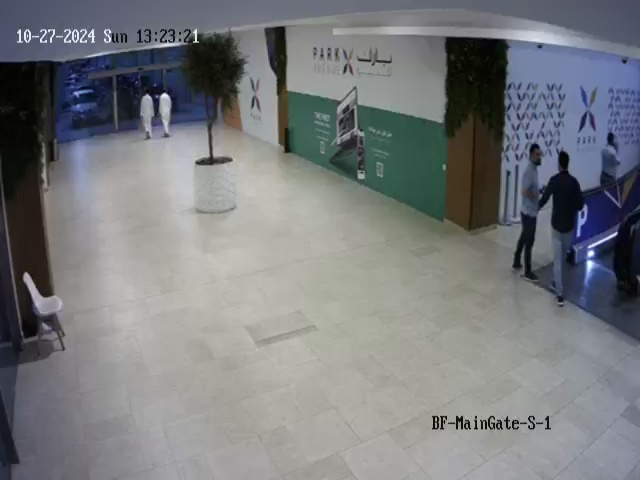male: (538, 150, 585, 306), (512, 143, 544, 281), (600, 132, 621, 188), (140, 88, 155, 140), (158, 87, 172, 138)
